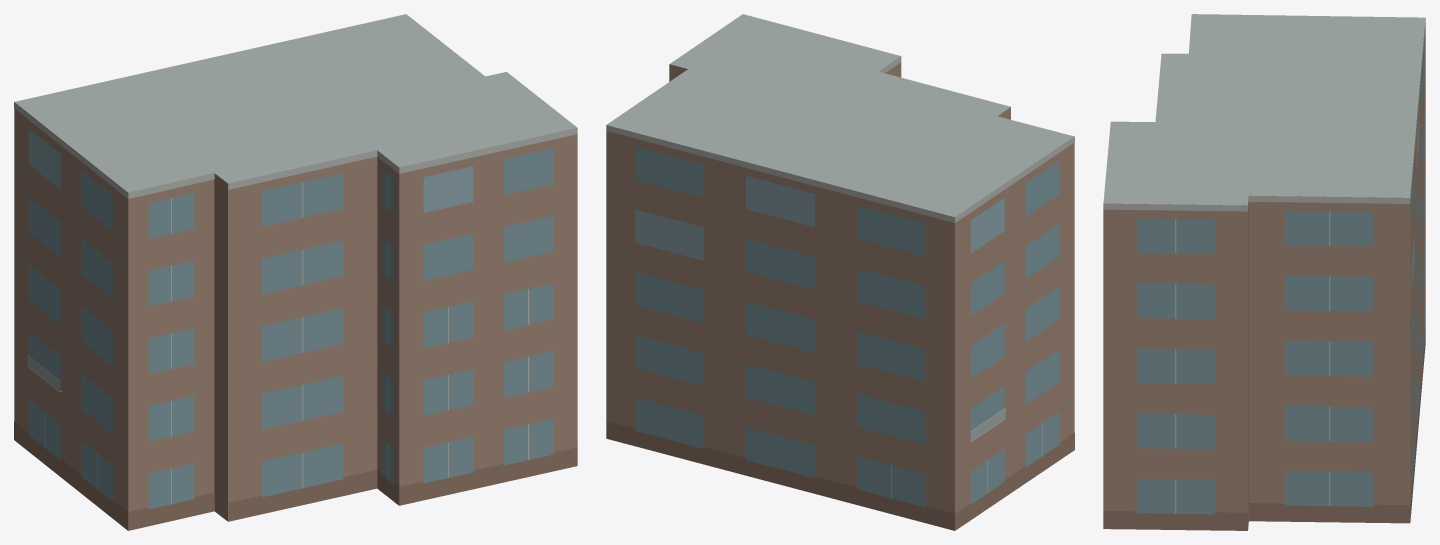
File: survey-upis-33029970.glb
3 renders of one model, left to right at view 1: azimuth 30°, elevation 25°; view 2: azimuth 150°, elevation 25°; view 3: azimuth 270°, elevation 25°, orthographic. The views are drawn at different scales.
Parts seen in each view (by area): view 1: survey-upis-33029970.tmp; view 2: survey-upis-33029970.tmp; view 3: survey-upis-33029970.tmp.
Boxes of the visible parts, box(x1,y1,x2,y2) form: survey-upis-33029970.tmp: box(14, 14, 577, 530); survey-upis-33029970.tmp: box(606, 14, 1074, 530); survey-upis-33029970.tmp: box(1103, 14, 1425, 530).
Size of the model in its own units: 16.38 by 12.98 by 11.65.
